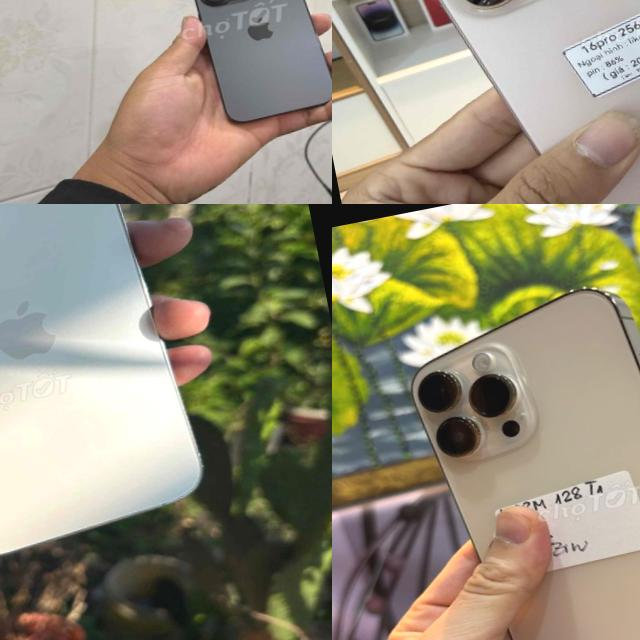gen_14: (392, 262, 640, 640), (0, 204, 220, 581), (183, 0, 332, 141)
gen_16: (389, 0, 640, 204)
